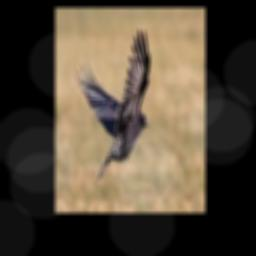Crow: (75, 28, 150, 179)
